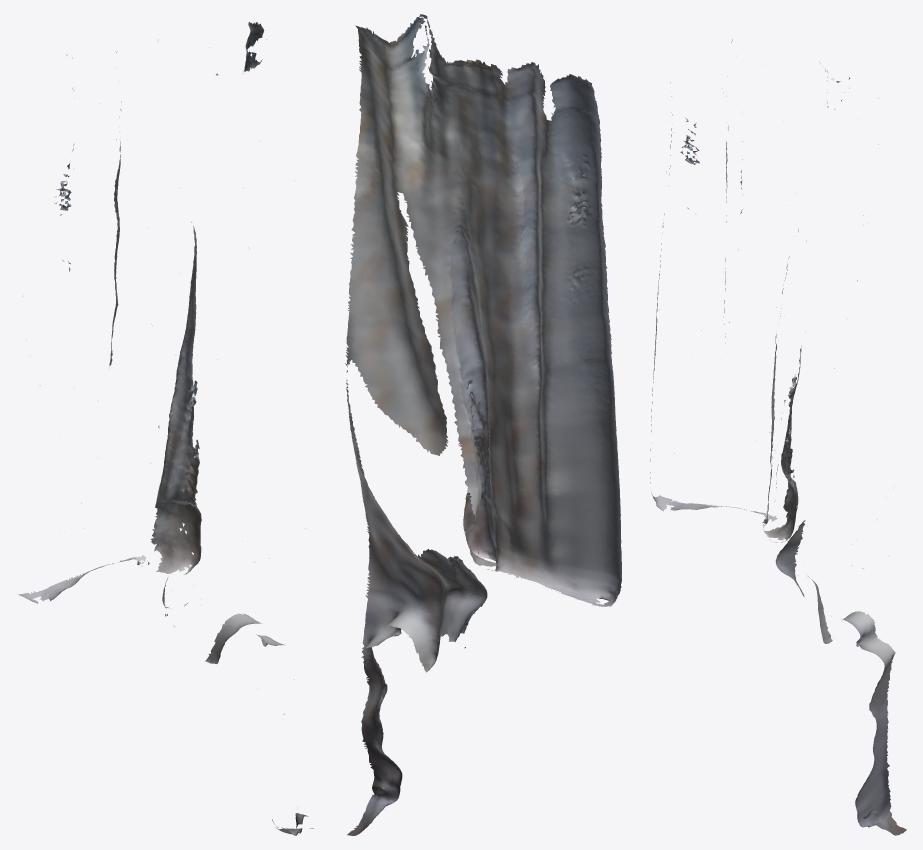
Rendered from apartment-full-93-f91e5e756950.glb.
The picture shows the model from 3 angles, left to right: view 1: azimuth 30°, elevation 25°; view 2: azimuth 150°, elevation 25°; view 3: azimuth 330°, elevation 25°; orthographic projection. The views are drawn at different scales.
Size of the model in its own units: 0.813 by 2.37 by 0.172.
